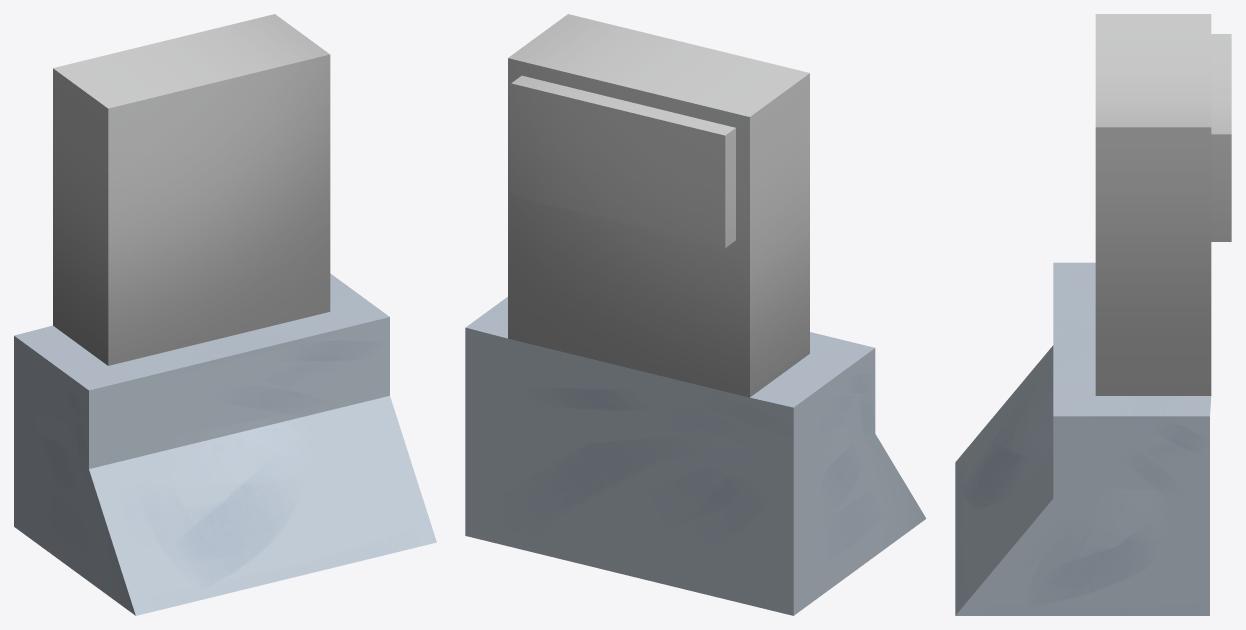
File: Fumigator.fbx
The picture shows the model from 3 angles, left to right: view 1: azimuth 30°, elevation 25°; view 2: azimuth 150°, elevation 25°; view 3: azimuth 270°, elevation 25°; orthographic projection. The views are drawn at different scales.
Parts seen in each view (by area): view 1: Fumigator; view 2: Fumigator; view 3: Fumigator.
Boxes of the visible parts, <box> form: Fumigator: <box>14,14,436,615</box>; Fumigator: <box>465,14,926,615</box>; Fumigator: <box>955,14,1231,615</box>.
Size of the model in its own units: 118 by 168 by 89.86.
